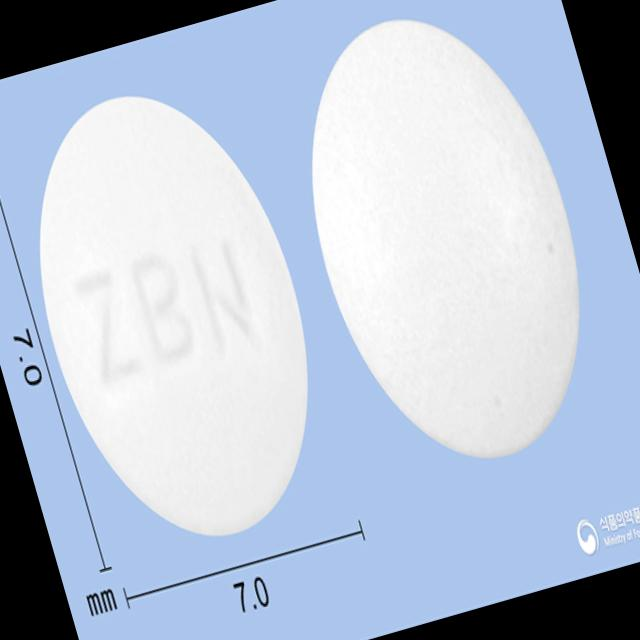Arava - 20mg: (0, 58, 359, 573)
